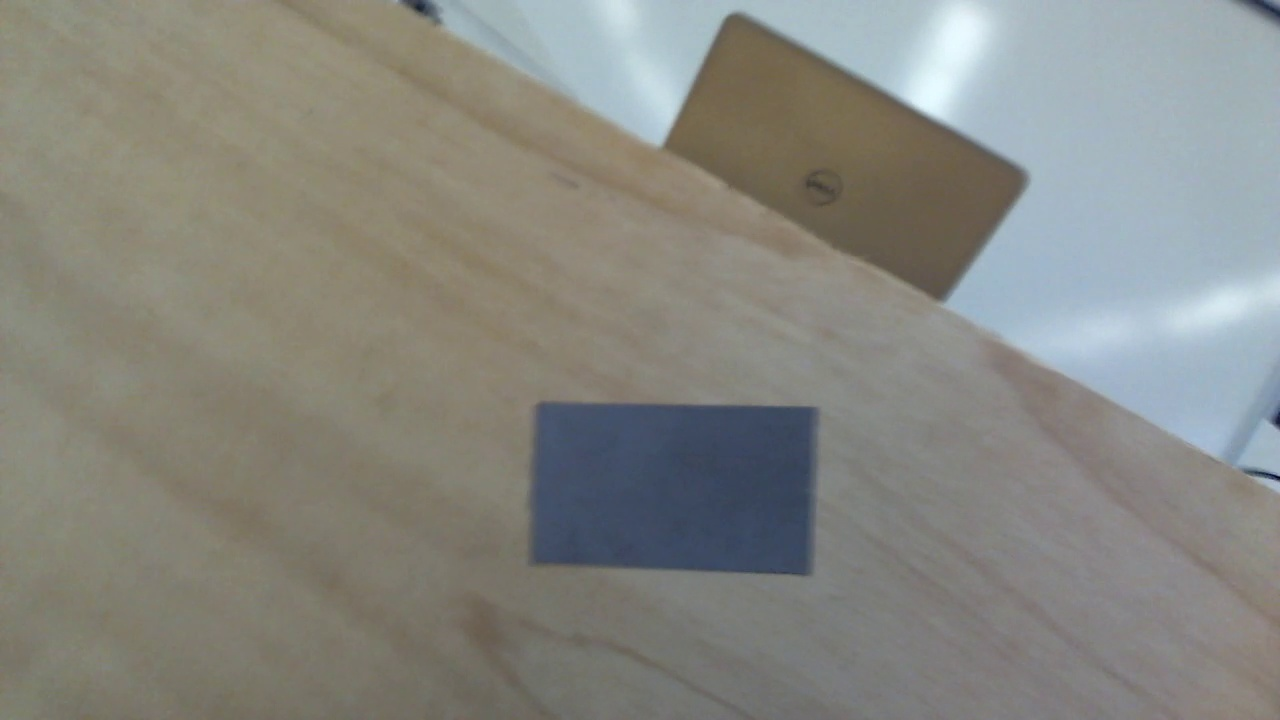Tape: (529, 403, 818, 576)
